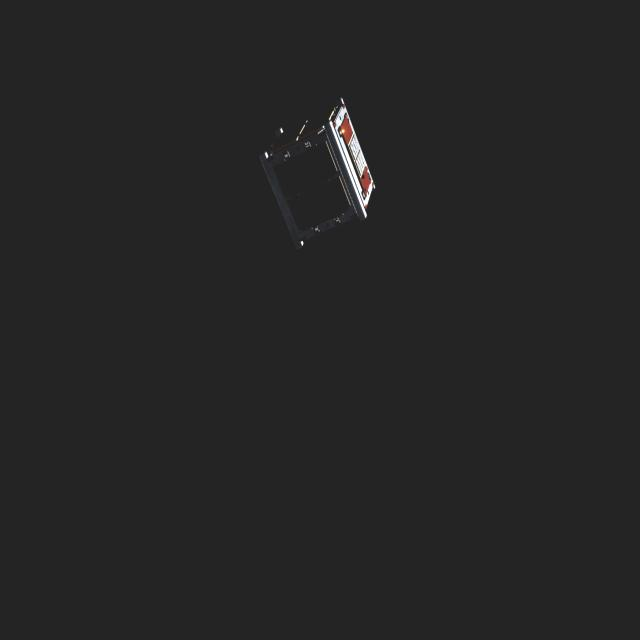medium_debris: (262, 97, 381, 255)
